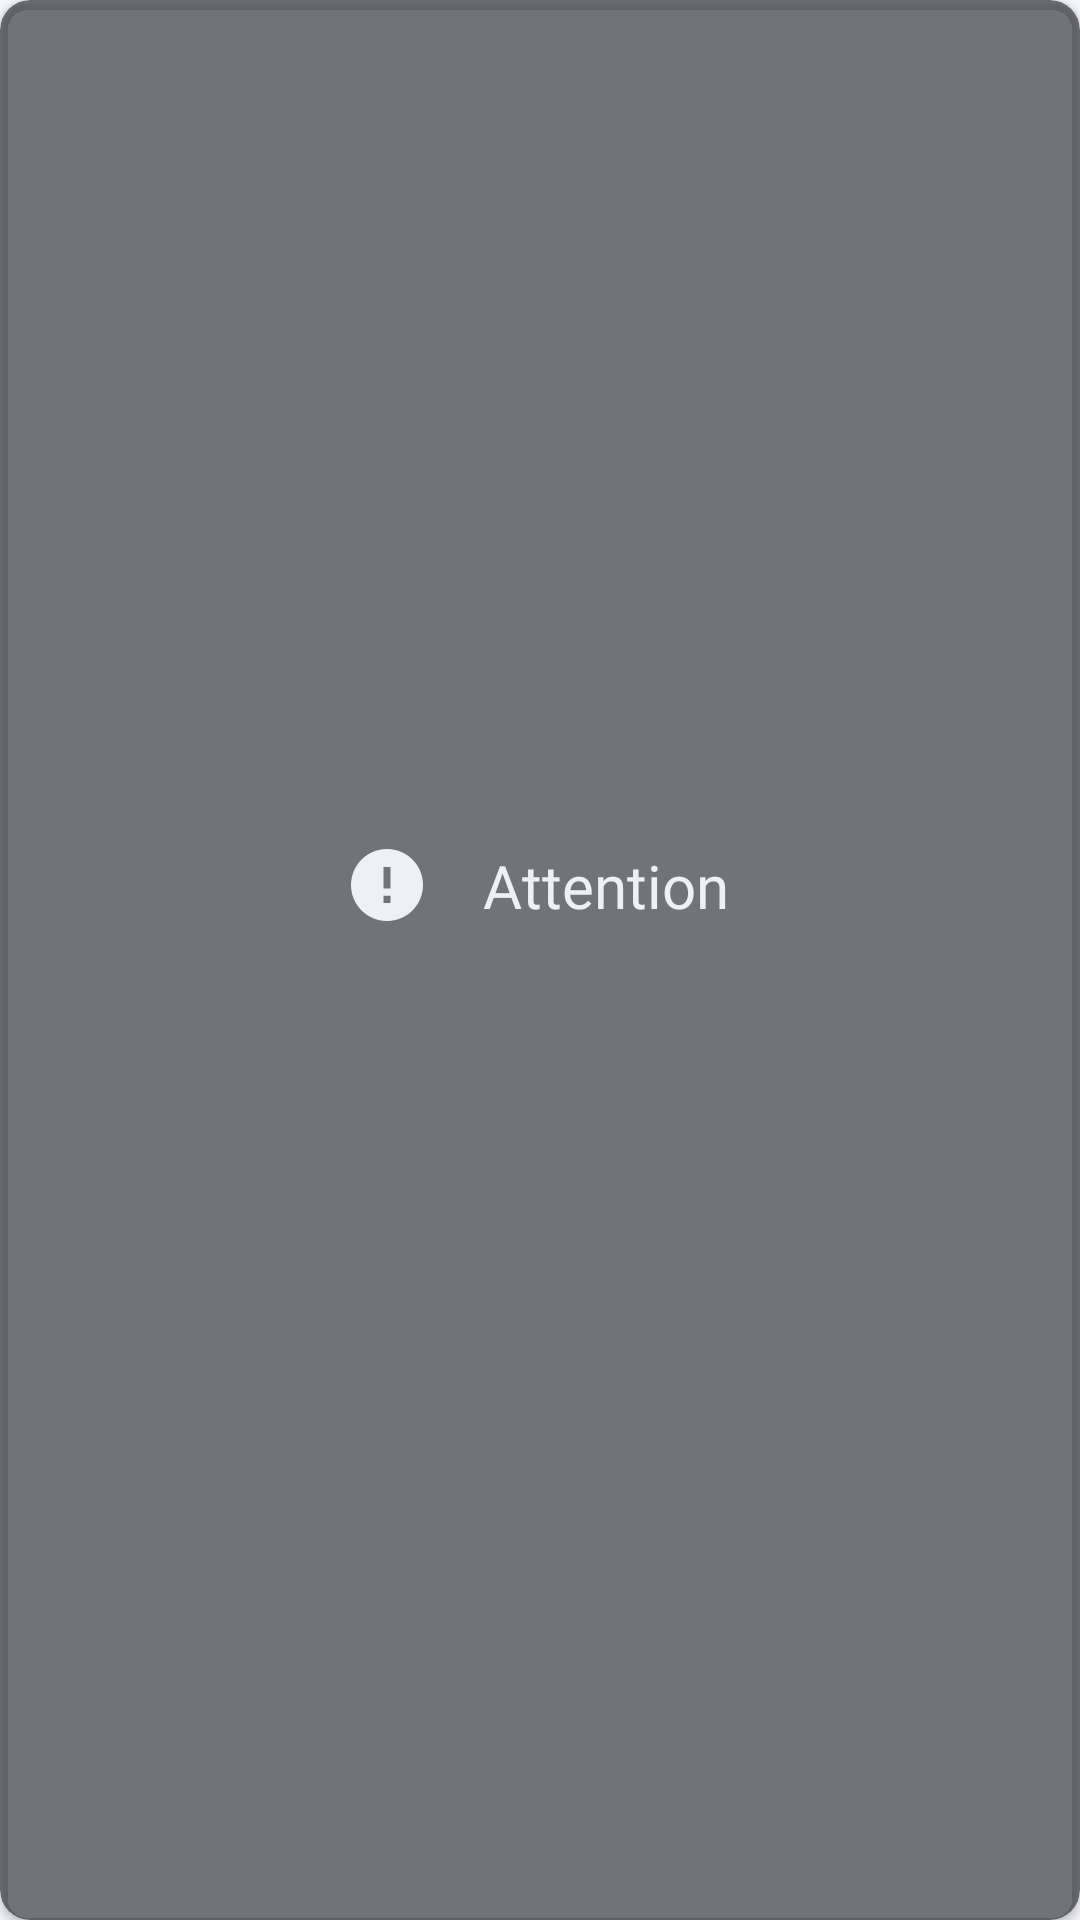

Icons on this 1080px x 1920px Android screen, each with the point to tap as point (x, y):
caution: point (387, 885)
